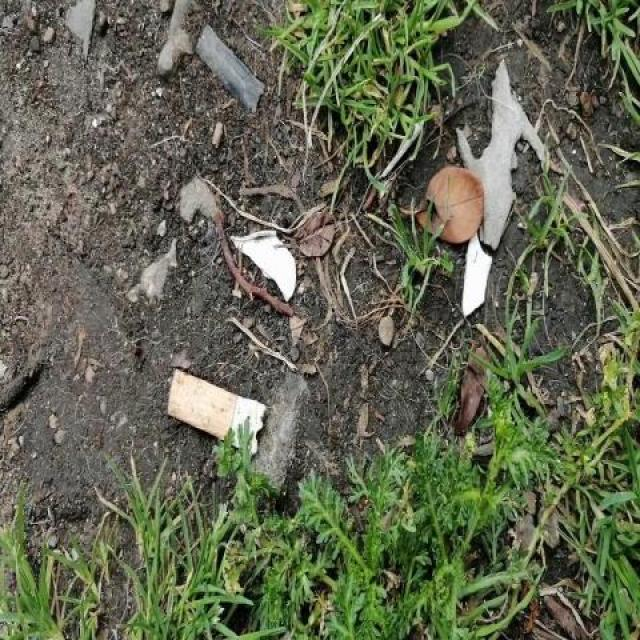non-organic waste: (164, 364, 269, 457)
